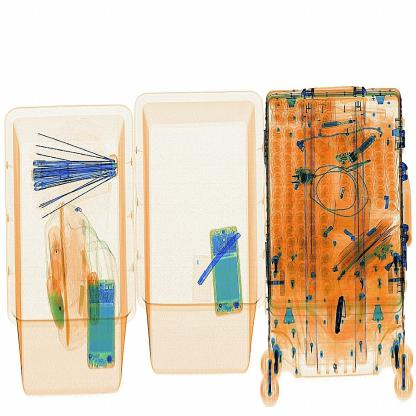pliers: (193, 223, 254, 292)
